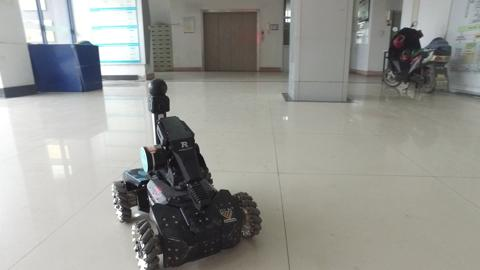chariot: (93, 76, 275, 270)
